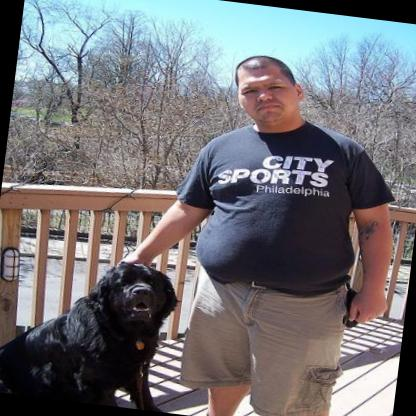Newfoundland: (0, 243, 177, 408)
